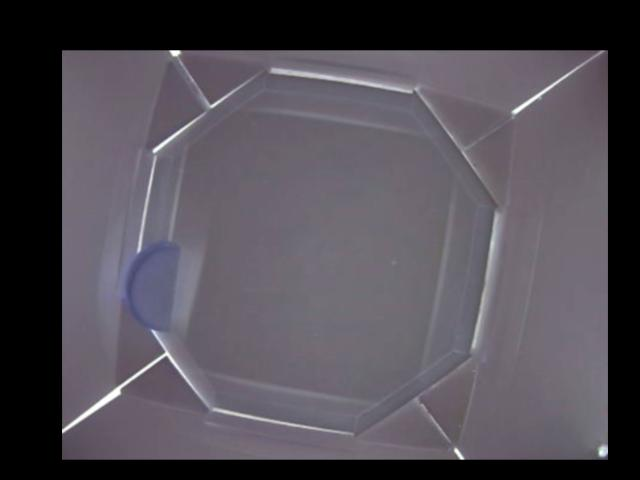Mooli: (121, 242, 179, 329)
